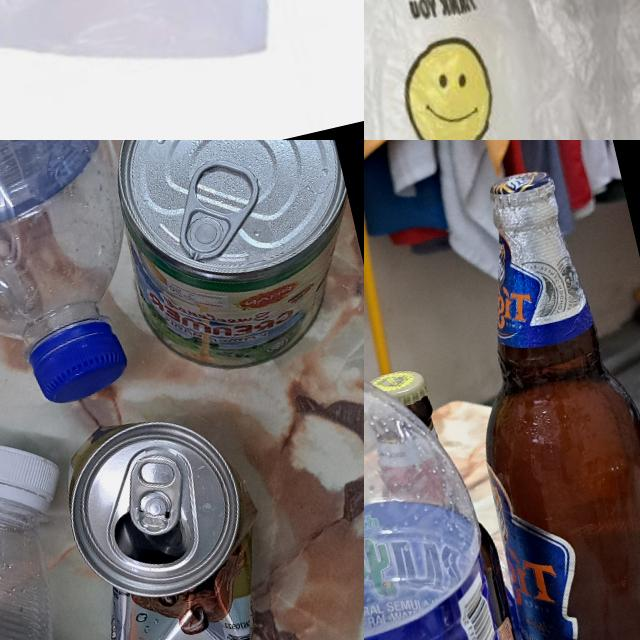aba de lata: (164, 153, 272, 264), (118, 450, 192, 540)
garrafa de vidro: (419, 156, 640, 640), (364, 356, 543, 640)
garrafa plástica: (364, 338, 535, 640), (0, 140, 152, 385), (0, 482, 91, 640)
lata: (88, 140, 364, 390), (52, 394, 290, 640)
sacola plástica: (0, 0, 359, 117), (364, 0, 607, 140), (477, 0, 640, 140)
tampa plástica: (22, 317, 134, 409), (0, 424, 68, 522)
